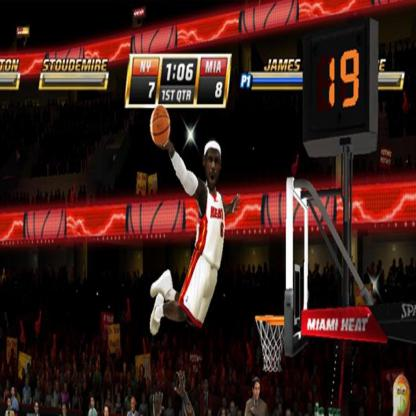face: (207, 149, 221, 190), (255, 382, 261, 400), (232, 402, 236, 416), (63, 406, 68, 415), (132, 399, 135, 410), (105, 408, 109, 416), (127, 373, 131, 381), (36, 402, 39, 412), (193, 378, 196, 388), (287, 410, 292, 416), (13, 387, 16, 396), (8, 398, 11, 407), (92, 398, 95, 407), (10, 366, 13, 375), (206, 381, 209, 390), (118, 395, 121, 403), (141, 368, 144, 376), (124, 364, 127, 372), (97, 403, 100, 411), (279, 405, 282, 413), (26, 379, 29, 386), (65, 385, 68, 392), (108, 392, 111, 399), (224, 399, 227, 406), (277, 390, 280, 397), (61, 374, 64, 381), (38, 376, 40, 385), (83, 371, 86, 377), (223, 410, 226, 416), (57, 383, 59, 391), (47, 373, 49, 381), (170, 400, 172, 408), (129, 388, 131, 395), (23, 370, 25, 377), (28, 365, 30, 372), (144, 395, 146, 402), (97, 362, 99, 369), (86, 362, 88, 369), (76, 388, 78, 394), (58, 371, 60, 377), (43, 373, 45, 379), (47, 363, 49, 368), (190, 369, 192, 374), (8, 382, 9, 388)
